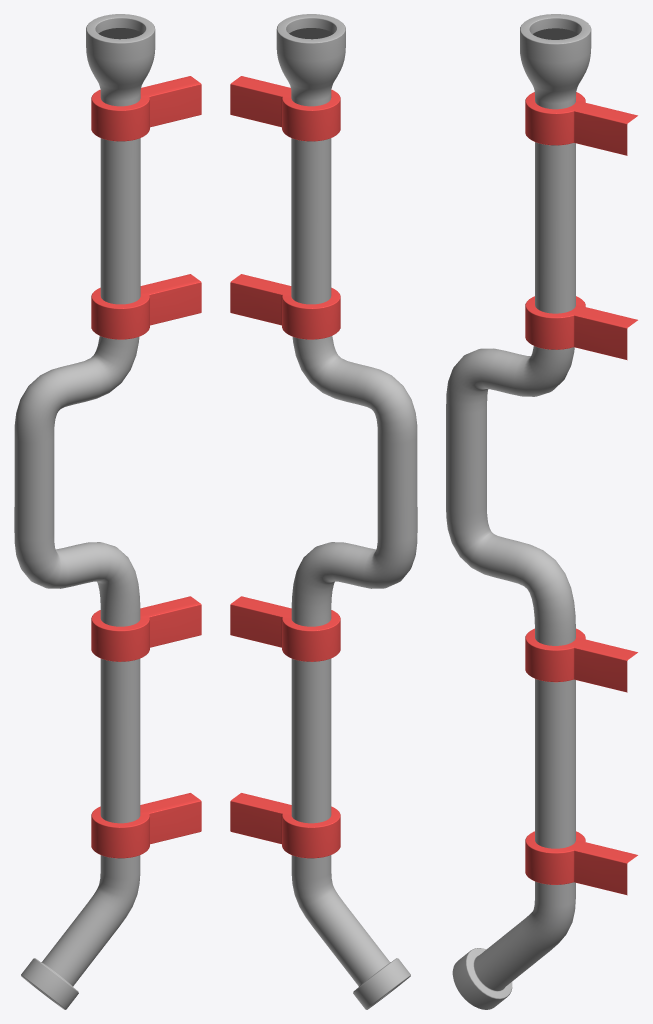
Rendered from City_20_Drain_Pipe_1.glb.
3 views of the same model, side by side, from view 1: azimuth 30°, elevation 25°; view 2: azimuth 150°, elevation 25°; view 3: azimuth 330°, elevation 25° (orthographic). The views are drawn at different scales.
Parts seen in each view (by area): view 1: City_20_Drain_Pipe_1; view 2: City_20_Drain_Pipe_1; view 3: City_20_Drain_Pipe_1.
Boxes of the visible parts, x1,y1,x2,y2 form: City_20_Drain_Pipe_1: (14, 14, 201, 1009); City_20_Drain_Pipe_1: (230, 14, 417, 1009); City_20_Drain_Pipe_1: (446, 14, 637, 1009).
Size of the model in its own units: 1.31 by 6.76 by 0.4412.
Materials: 1 (1 with a texture image).
